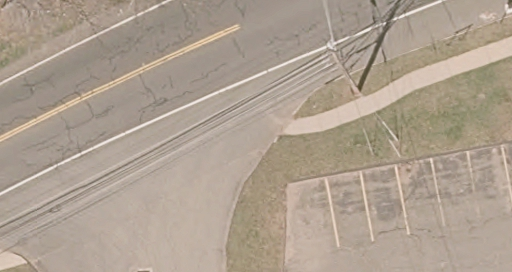DT: (318, 34, 364, 102)
